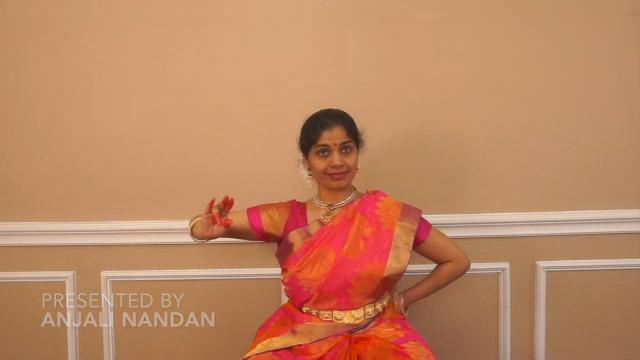kangul: (187, 177, 245, 247)
